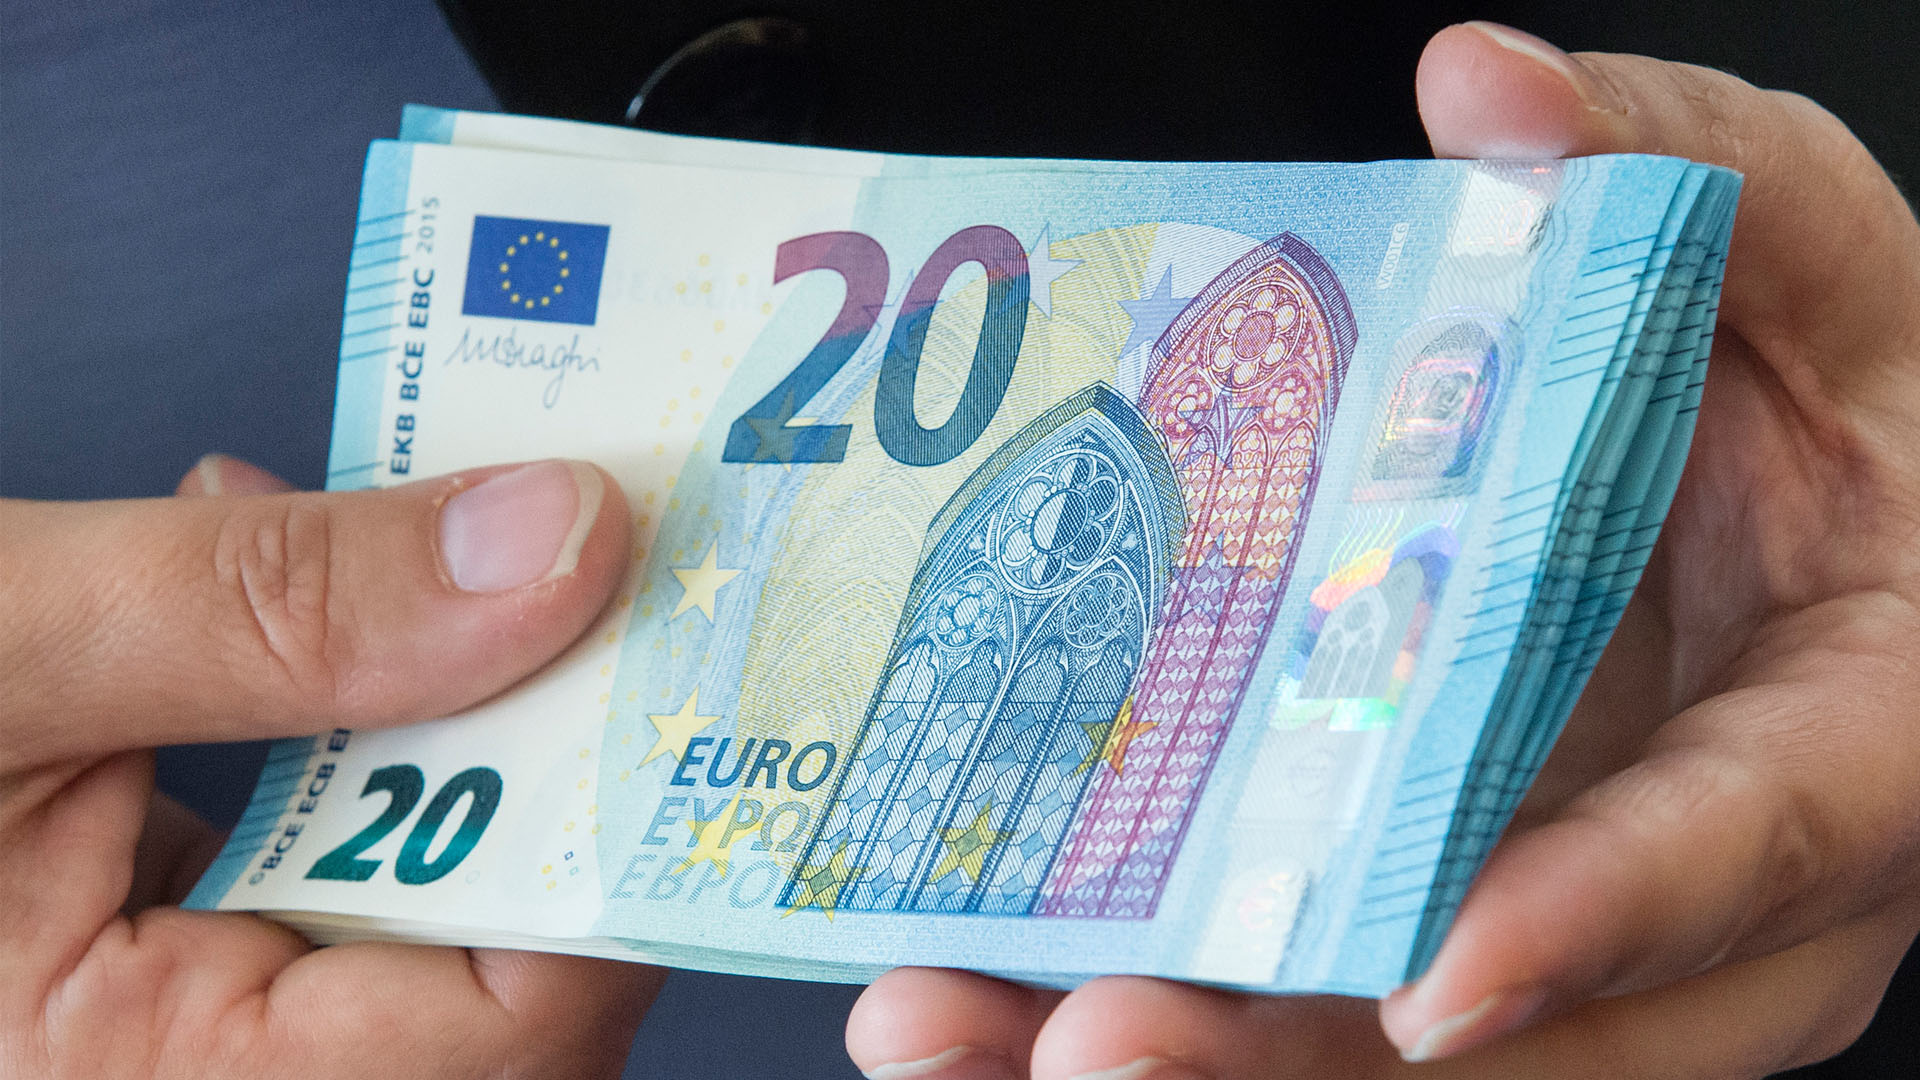billete: (178, 99, 1753, 1011)
